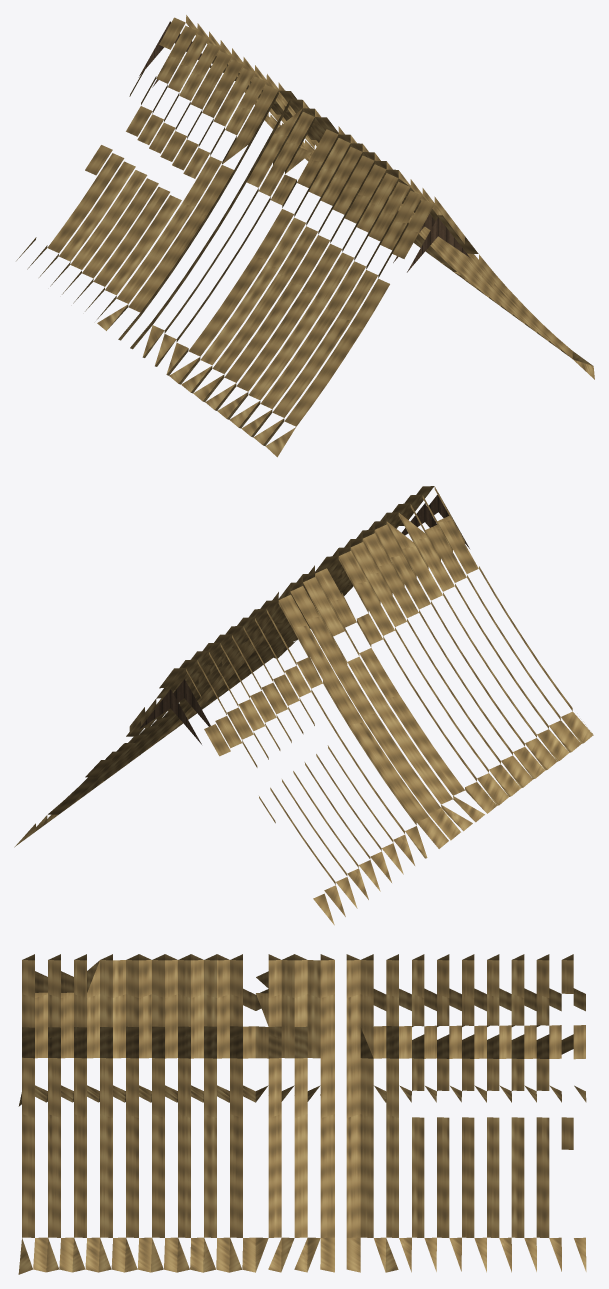
The model's file is Roof_Thatch_6x10_LOD1.gltf.
3 views of the same model, one above another, from view 1: azimuth 30°, elevation 25°; view 2: azimuth 150°, elevation 25°; view 3: azimuth 270°, elevation 25° (orthographic). The views are drawn at different scales.
Parts seen in each view (by area): view 1: Roof_Thatch_6x10_LOD1; view 2: Roof_Thatch_6x10_LOD1; view 3: Roof_Thatch_6x10_LOD1.
Boxes of the visible parts, left/top/right/bottom form: Roof_Thatch_6x10_LOD1: left=16, top=15, right=594, bottom=457; Roof_Thatch_6x10_LOD1: left=14, top=486, right=593, bottom=925; Roof_Thatch_6x10_LOD1: left=18, top=954, right=586, bottom=1274.
Bounding box in the file's own units: 8.25 × 5.17 × 11.66.
Materials: 2 (2 with a texture image).
